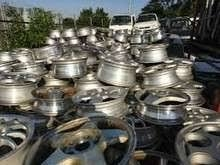metal: (23, 111, 145, 165), (130, 81, 196, 129), (168, 119, 220, 164), (93, 53, 139, 91), (45, 54, 94, 82), (1, 74, 39, 110), (132, 40, 170, 67)
